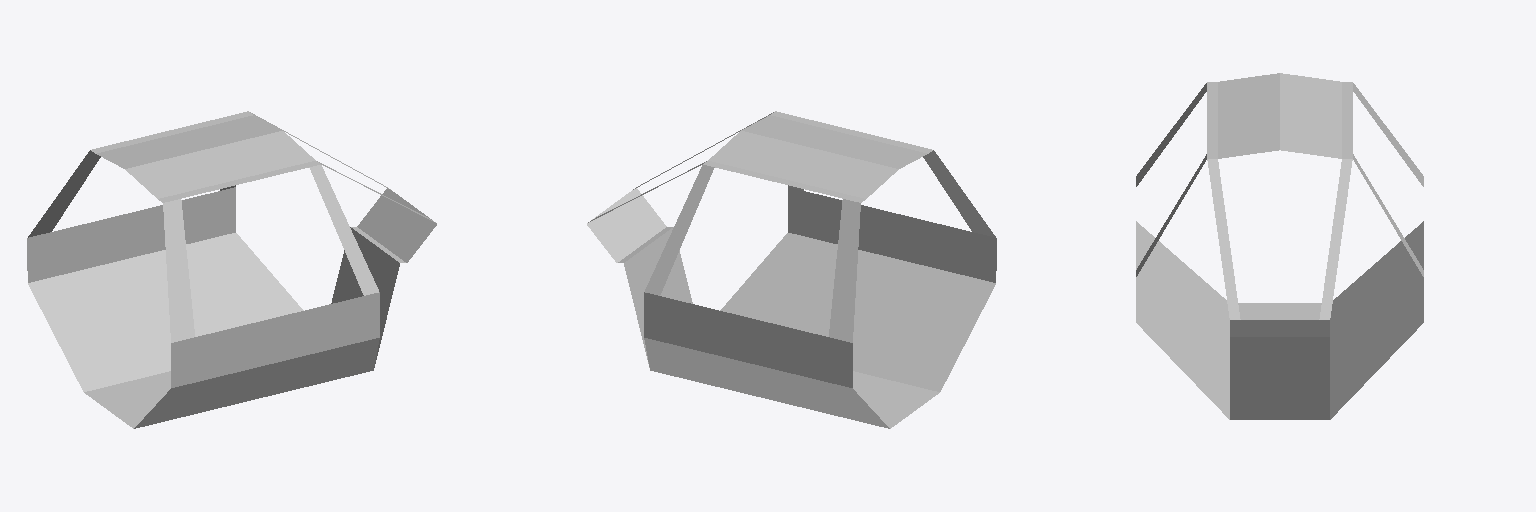
The model's file is CockpitFuselage.obj.
3 renders of one model, left to right at view 1: azimuth 30°, elevation 25°; view 2: azimuth 150°, elevation 25°; view 3: azimuth 270°, elevation 25°, orthographic.
Visible parts, largest first — view 1: Fuselage_Plane; view 2: Fuselage_Plane; view 3: Fuselage_Plane.
Boxes of the visible parts, x1,y1,x2,y2 form: Fuselage_Plane: [27, 111, 436, 428]; Fuselage_Plane: [587, 111, 996, 428]; Fuselage_Plane: [1136, 73, 1423, 419].
Bounding box in the file's own units: 9.95 × 7.21 × 7.9.